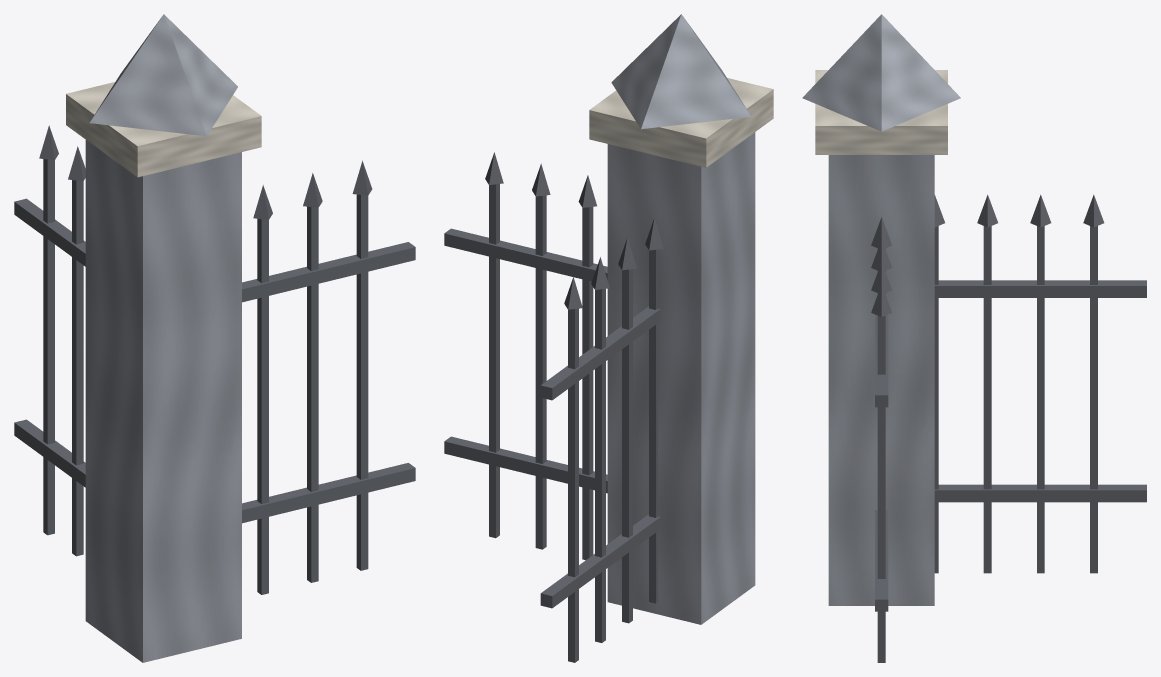
3 views of the same model, side by side, from view 1: azimuth 30°, elevation 25°; view 2: azimuth 150°, elevation 25°; view 3: azimuth 270°, elevation 25° (orthographic). The views are drawn at different scales.
Parts seen in each view (by area): view 1: iron-fence-corner; view 2: iron-fence-corner; view 3: iron-fence-corner.
Part boxes in pixels (left/top/right/bottom): iron-fence-corner: left=14, top=14, right=415, bottom=662; iron-fence-corner: left=444, top=14, right=773, bottom=662; iron-fence-corner: left=802, top=14, right=1146, bottom=662.
Size of the model in its own units: 1.3 by 2.37 by 1.3.
3 materials, 2 textured.
